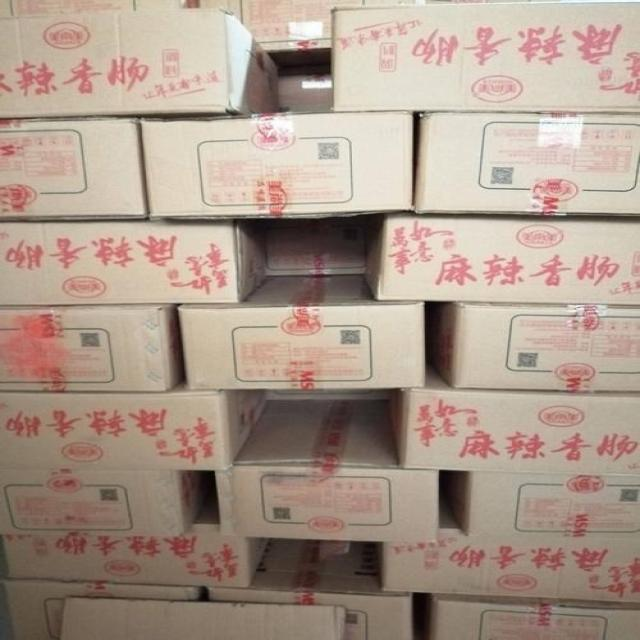box: (219, 389, 442, 543), (333, 3, 639, 110), (0, 7, 286, 118), (178, 271, 428, 390), (137, 112, 417, 217), (388, 361, 639, 477), (379, 502, 639, 603), (0, 375, 274, 468), (360, 215, 639, 306), (3, 495, 273, 587), (417, 110, 639, 220), (4, 217, 269, 306), (201, 537, 413, 639), (425, 304, 639, 392), (2, 306, 184, 392), (2, 463, 216, 535), (0, 117, 148, 219), (436, 470, 639, 540), (2, 577, 202, 639), (62, 596, 350, 639), (428, 595, 638, 638), (241, 0, 364, 71), (273, 215, 371, 275), (130, 0, 242, 21), (7, 0, 132, 16), (0, 0, 10, 17)
